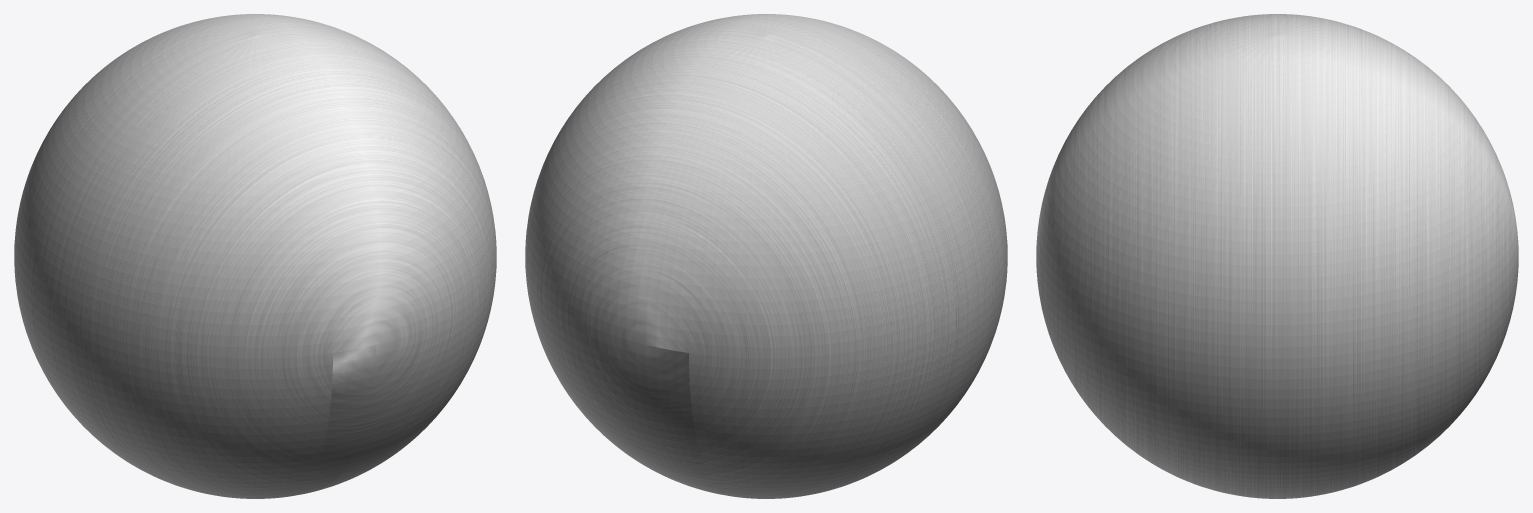
Rendered from ballC.obj.
The picture shows the model from 3 angles, left to right: view 1: azimuth 30°, elevation 25°; view 2: azimuth 150°, elevation 25°; view 3: azimuth 270°, elevation 25°; orthographic projection.
Parts seen in each view (by area): view 1: Sphere; view 2: Sphere; view 3: Sphere.
Part boxes in pixels (x1,y1,x2,y2): Sphere: [14, 14, 496, 498]; Sphere: [525, 14, 1007, 498]; Sphere: [1036, 14, 1518, 498].
Bounding box in the file's own units: 0.4354 × 0.44 × 0.4354.
1 material, 1 textured.
